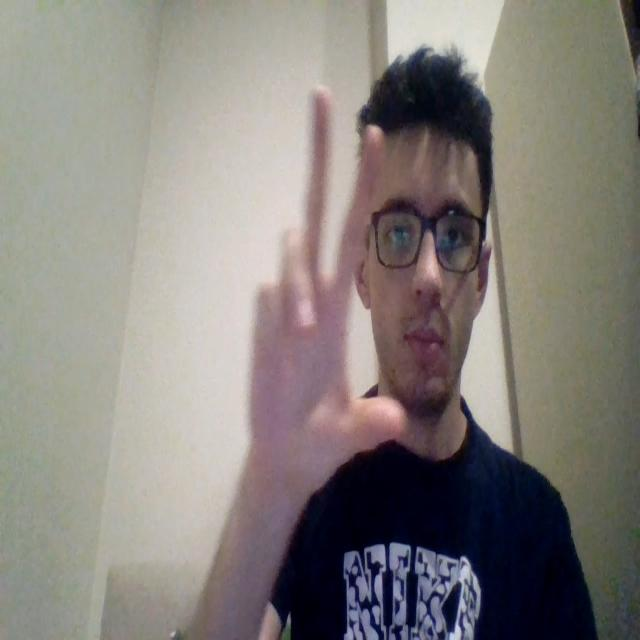no: (246, 84, 410, 505)
